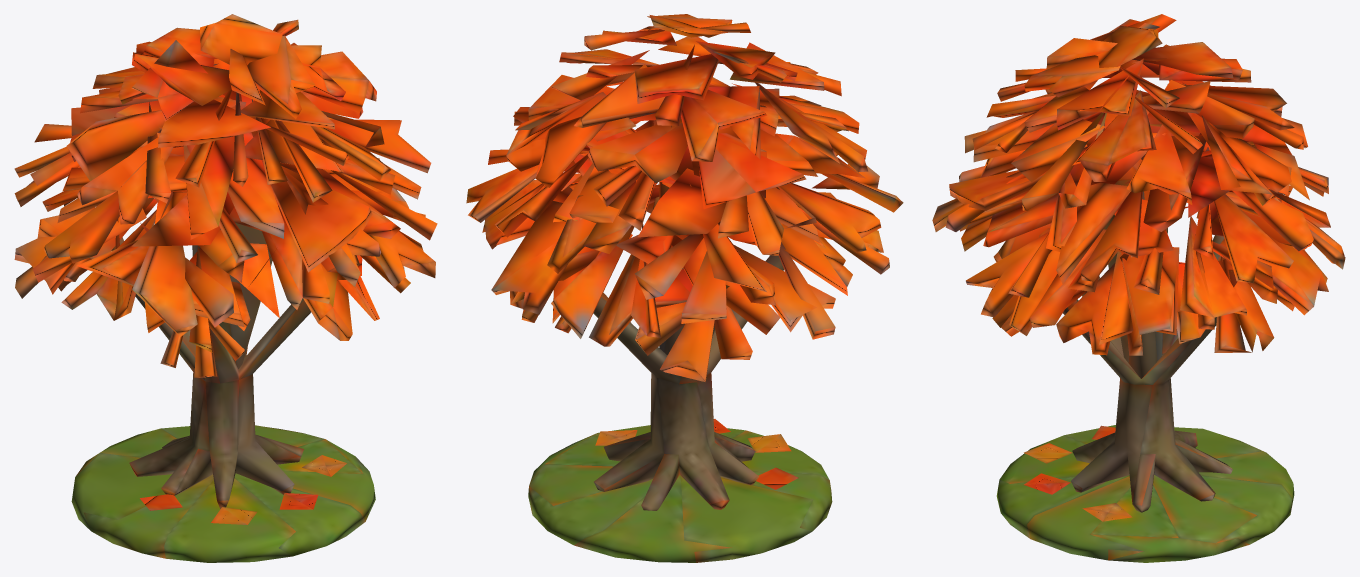
Rendered from maple.glb.
The picture shows the model from 3 angles, left to right: view 1: azimuth 30°, elevation 25°; view 2: azimuth 150°, elevation 25°; view 3: azimuth 270°, elevation 25°; orthographic projection. The views are drawn at different scales.
Parts seen in each view (by area): view 1: geometry_0; view 2: geometry_0; view 3: geometry_0.
Boxes of the visible parts, <box> form: geometry_0: <box>14,14,437,562</box>; geometry_0: <box>466,14,903,562</box>; geometry_0: <box>932,14,1345,562</box>.
Bounding box in the file's own units: 0.8065 × 1 × 0.8045.
Materials: 1 (1 with a texture image).
